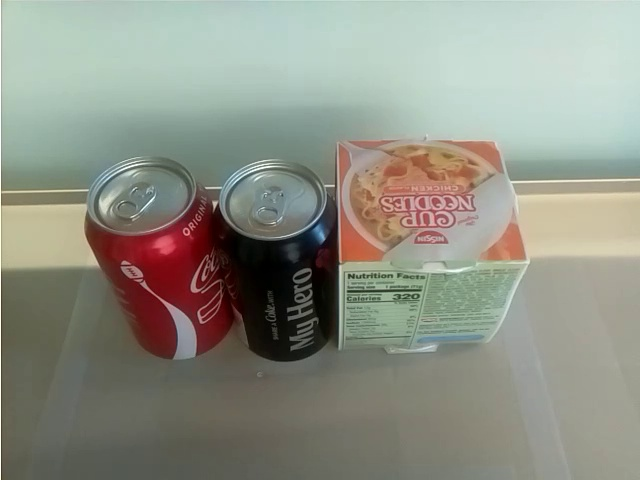cocacola: (80, 157, 231, 358)
cocacola-zero: (215, 151, 333, 364)
noodles: (340, 140, 526, 351)
